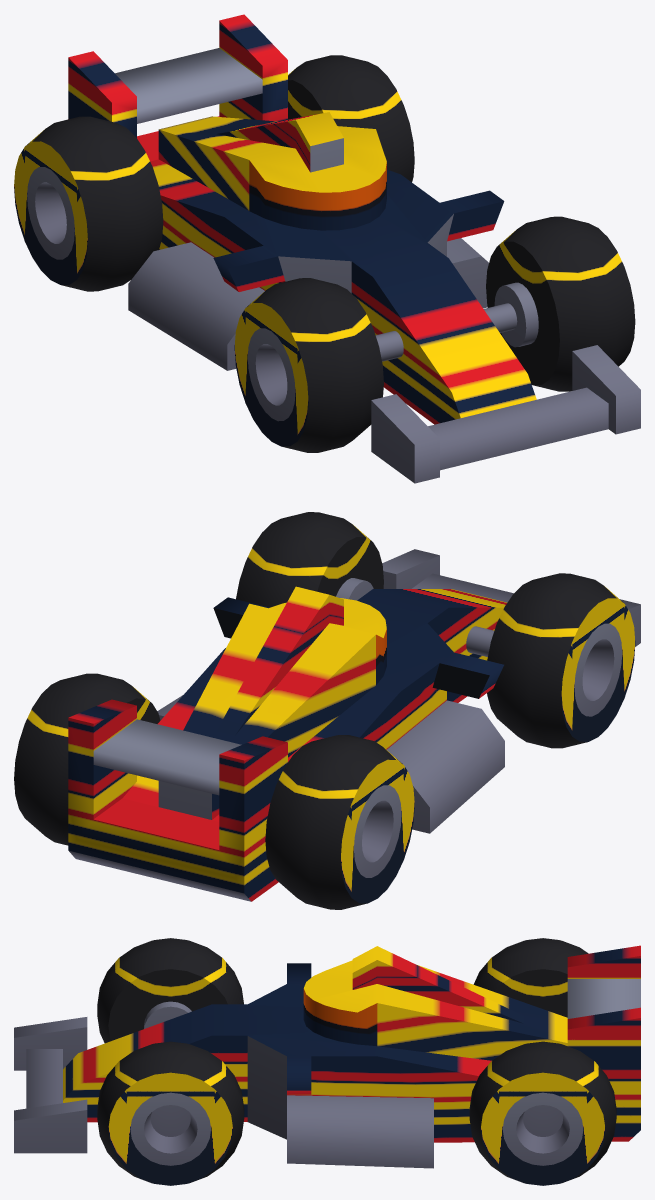
The model's file is car_redbull.obj.
The picture shows the model from 3 angles, top to bottom: view 1: azimuth 30°, elevation 25°; view 2: azimuth 150°, elevation 25°; view 3: azimuth 270°, elevation 25°; orthographic projection. The views are drawn at different scales.
Parts seen in each view (by area): view 1: body, wheel-back-right, wheel-front-right, wheel-front-left, wheel-back-left; view 2: body, wheel-back-right, wheel-front-right, wheel-front-left, wheel-back-left; view 3: body, wheel-front-left, wheel-back-left, wheel-front-right, wheel-back-right.
Part boxes in pixels (x1,y1,x2,y2): body: (68, 14, 640, 483); wheel-back-right: (14, 116, 163, 291); wheel-front-right: (234, 278, 383, 452); wheel-front-left: (486, 216, 635, 391); wheel-back-left: (288, 55, 414, 182); body: (68, 549, 640, 901); wheel-back-right: (265, 735, 414, 909); wheel-front-right: (487, 573, 635, 748); wheel-front-left: (236, 512, 383, 607); wheel-back-left: (14, 673, 160, 845); body: (14, 945, 640, 1168); wheel-front-left: (97, 1041, 244, 1185); wheel-back-left: (469, 1041, 616, 1185); wheel-front-right: (97, 938, 243, 1043); wheel-back-right: (473, 938, 588, 1017).
Bounding box in the file's own units: 1.3 × 0.7911 × 2.56.
1 material, 1 textured.
